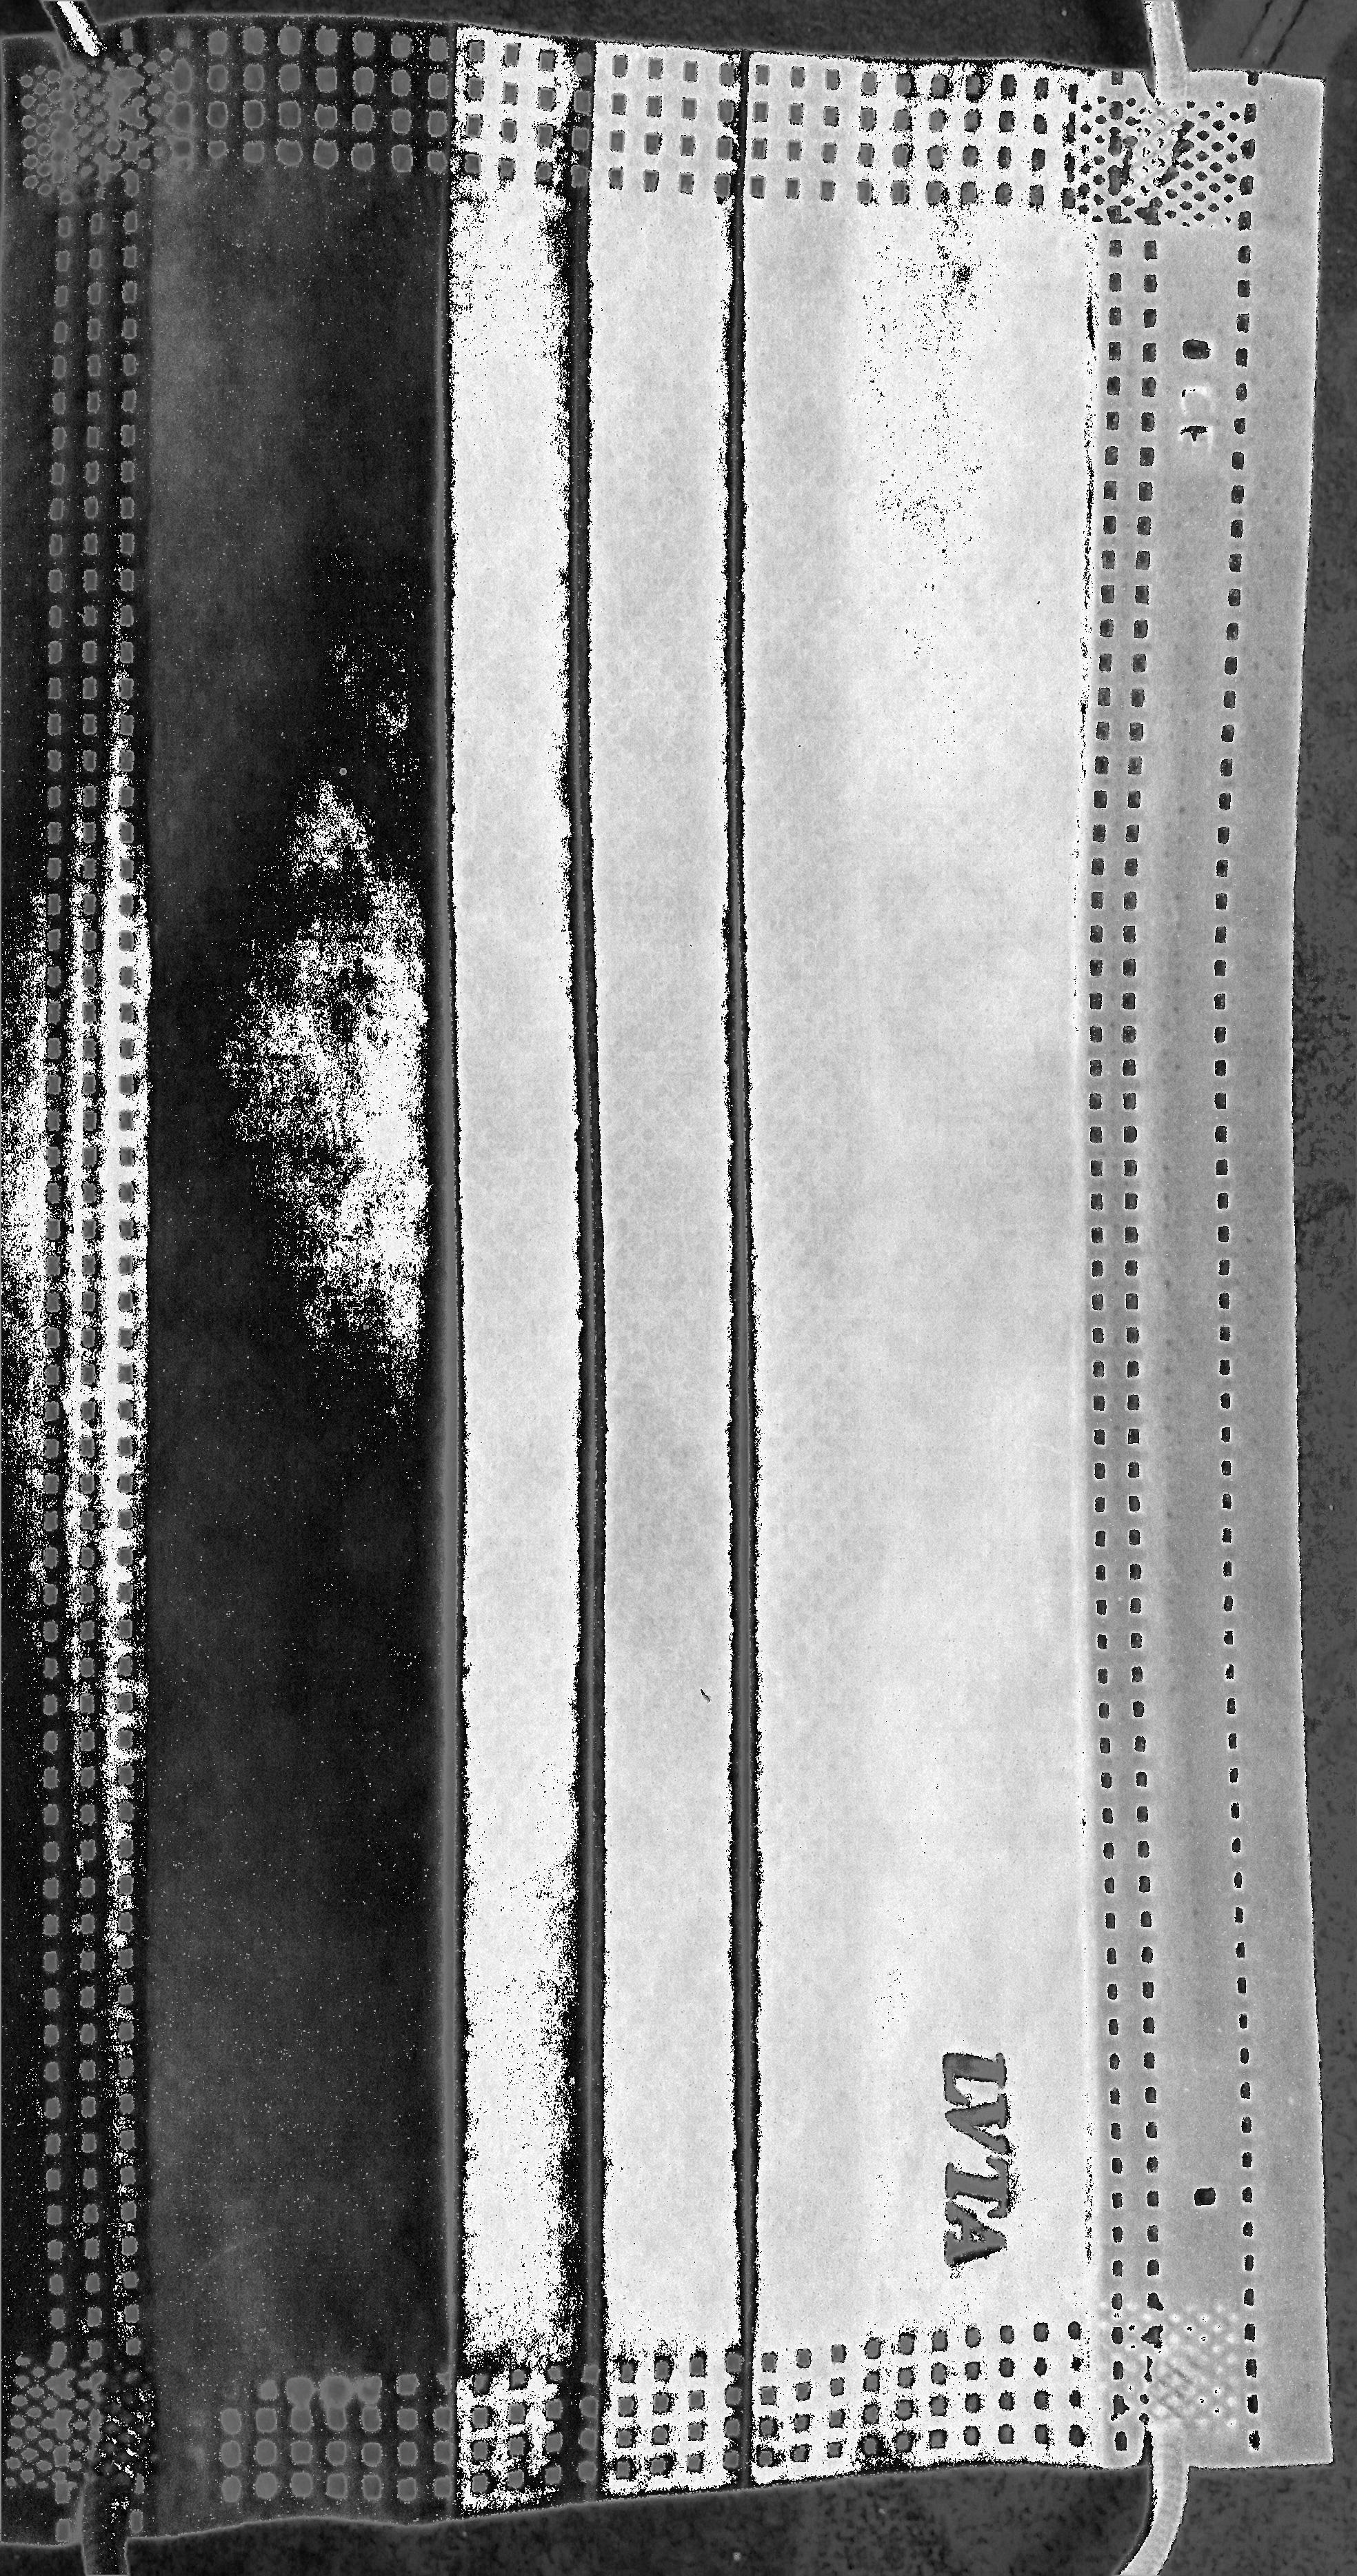High GSM: (174, 256, 1069, 2331)
